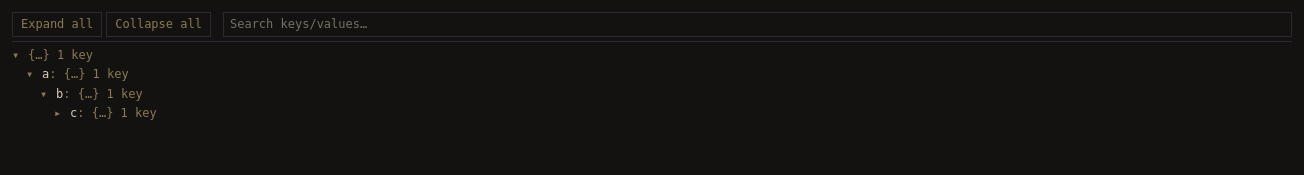
JsonTreeView toolbar — expand/collapse all › expand all opens containers below the auto-collapse depth
Expected: the text "a" is shown, x1=42 y1=67 x2=49 y2=81
Expected: the text "leaf" is not shown
Click the button "Expand all" at (57, 25), box x1=12 y1=12 x2=102 y2=37
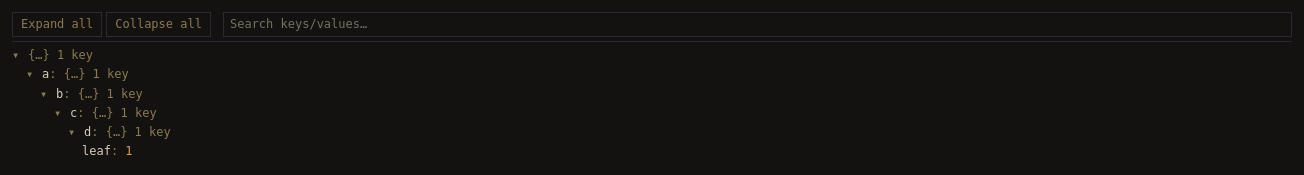
Now the text "leaf" is shown, box x1=82 y1=144 x2=111 y2=158
